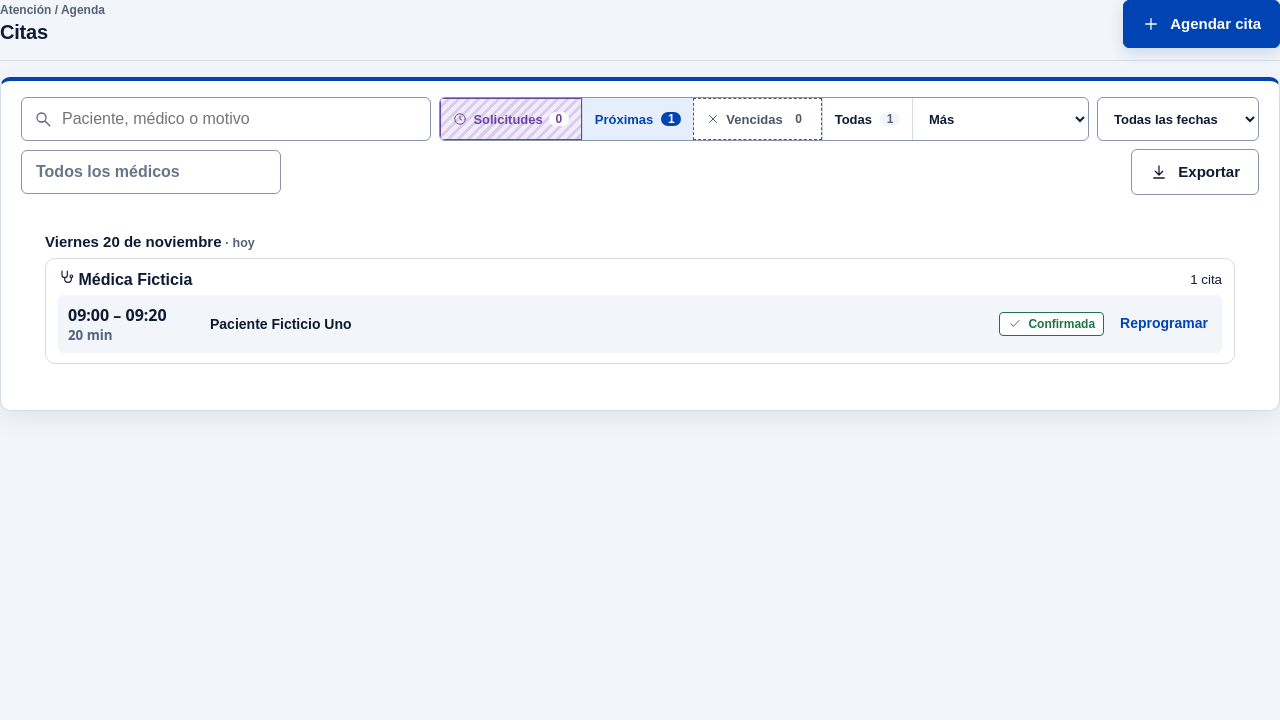
Test: Citas · auditoría 2026-11-20 › D57: rescheduling marks the slot the appointment holds as «Actual», not «Ocupado»
Click the button with aria-label "Reprogramar · Paciente Ficticio Uno": (1164,324) left=1116, top=303, right=1212, bottom=345
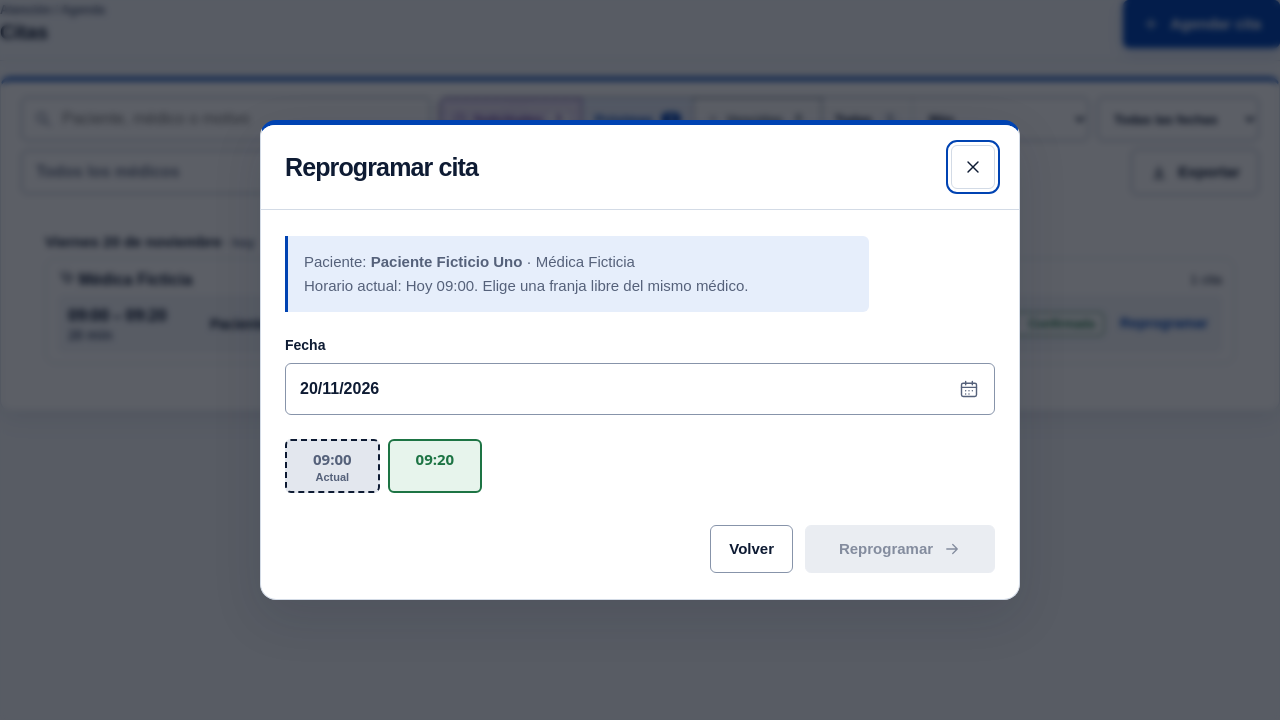
Expected: the button with aria-label "horario actual de la cita" is shown, left=285, top=439, right=380, bottom=493
Expected: the text "Actual" is shown, left=316, top=471, right=349, bottom=483
